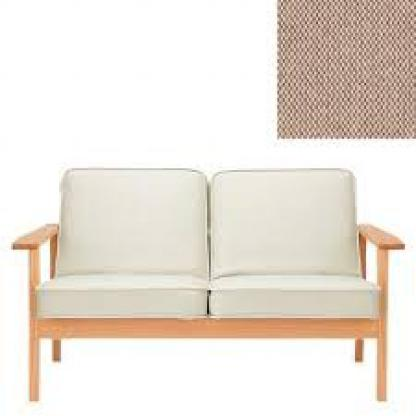sofa: (11, 161, 398, 405)
